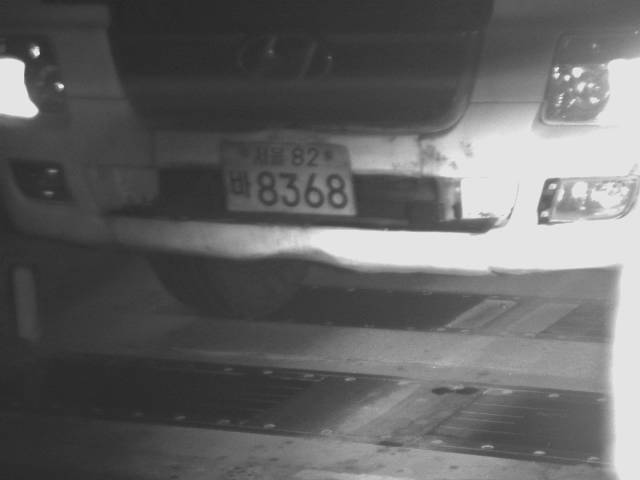car: (1, 1, 638, 316)
plate: (217, 137, 360, 218)
